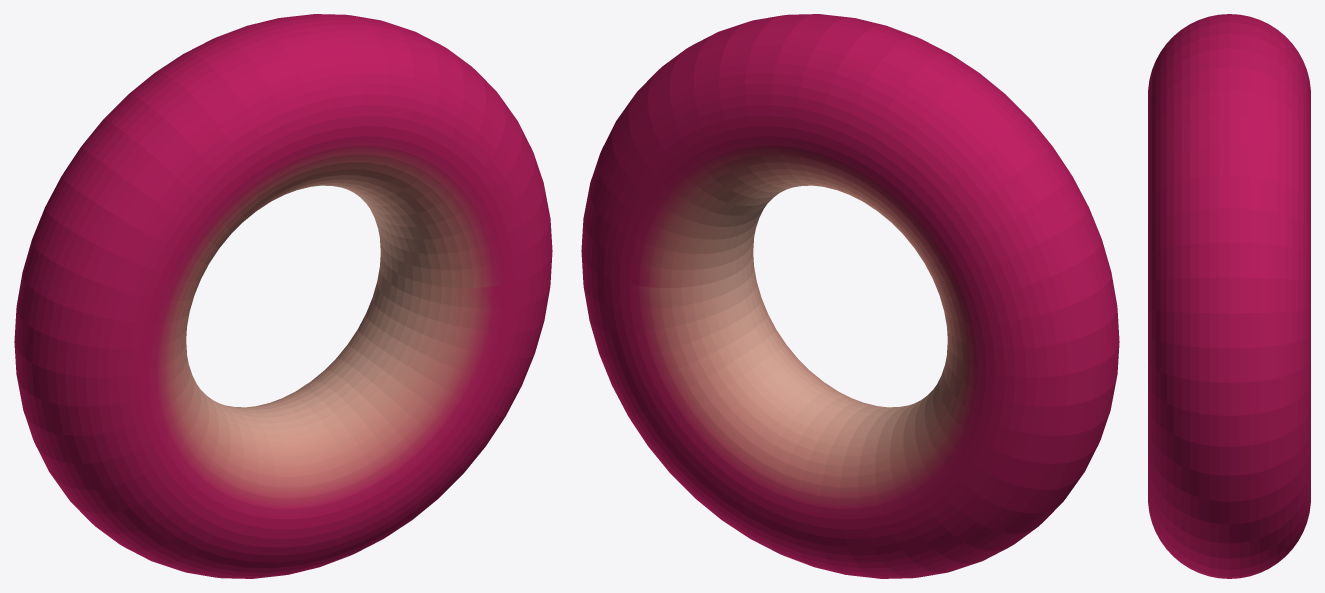
3 renders of one model, left to right at view 1: azimuth 30°, elevation 25°; view 2: azimuth 150°, elevation 25°; view 3: azimuth 270°, elevation 25°, orthographic. The views are drawn at different scales.
Visible parts, largest first — view 1: world; view 2: world; view 3: world.
Part boxes in pixels (x1=…): world: x1=14, y1=14, x2=552, y2=578; world: x1=581, y1=14, x2=1119, y2=578; world: x1=1148, y1=14, x2=1310, y2=578.
Bounding box in the file's own units: 30 × 29.94 × 8.65.
